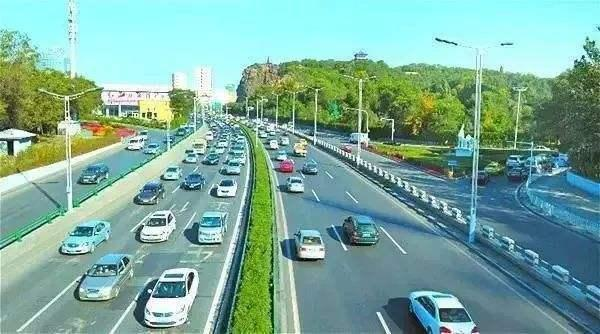car: (400, 284, 479, 334), (144, 264, 207, 324), (79, 251, 138, 300), (141, 199, 172, 249), (291, 223, 327, 262), (137, 180, 174, 216), (342, 213, 383, 244), (196, 208, 227, 248), (68, 220, 107, 250), (72, 158, 111, 185), (215, 173, 243, 201), (184, 171, 210, 199), (164, 164, 191, 188), (220, 156, 240, 179), (226, 144, 243, 163), (278, 157, 297, 174), (142, 143, 160, 157), (283, 174, 297, 191), (301, 157, 315, 174), (203, 152, 218, 166), (291, 142, 306, 156), (130, 135, 145, 149), (278, 148, 290, 162), (186, 154, 200, 165)
